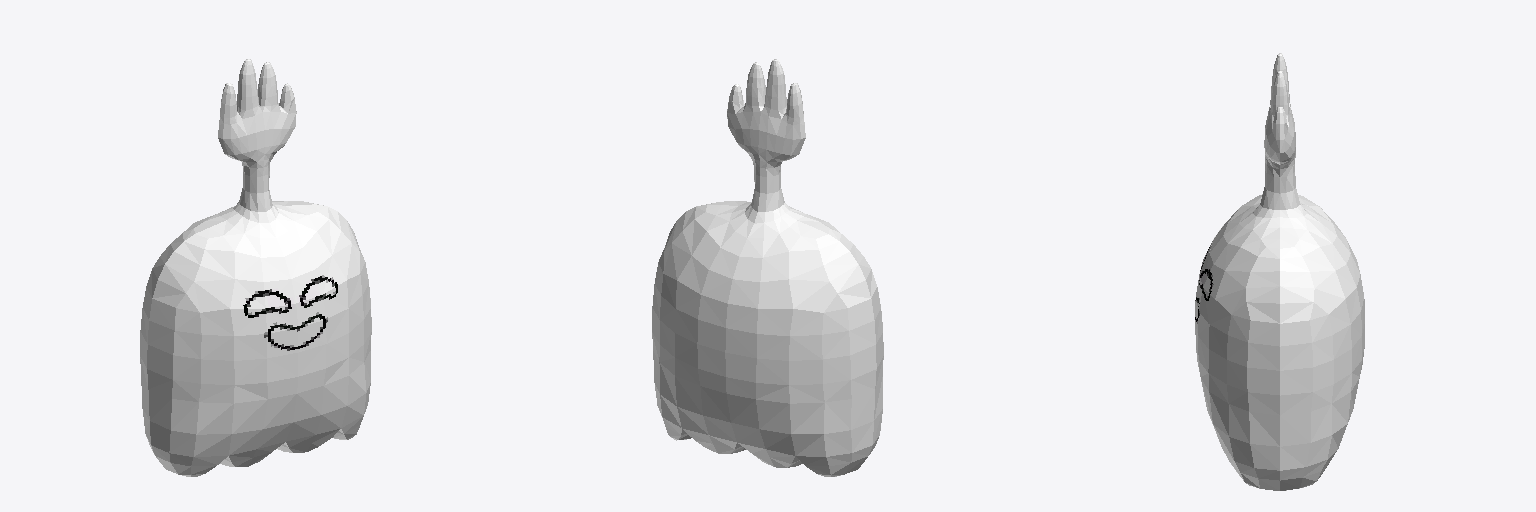
The picture shows the model from 3 angles: view 1: azimuth 30°, elevation 25°; view 2: azimuth 150°, elevation 25°; view 3: azimuth 270°, elevation 25°; orthographic projection.
Visible parts, largest first — view 1: Mesh_0712.rip; view 2: Mesh_0712.rip; view 3: Mesh_0712.rip.
Boxes of the visible parts, x1,y1,x2,y2 form: Mesh_0712.rip: [140, 59, 371, 476]; Mesh_0712.rip: [652, 59, 883, 476]; Mesh_0712.rip: [1195, 53, 1364, 490].
Size of the model in its own units: 0.1848 by 0.3222 by 0.1253.
1 materials, 1 textured.